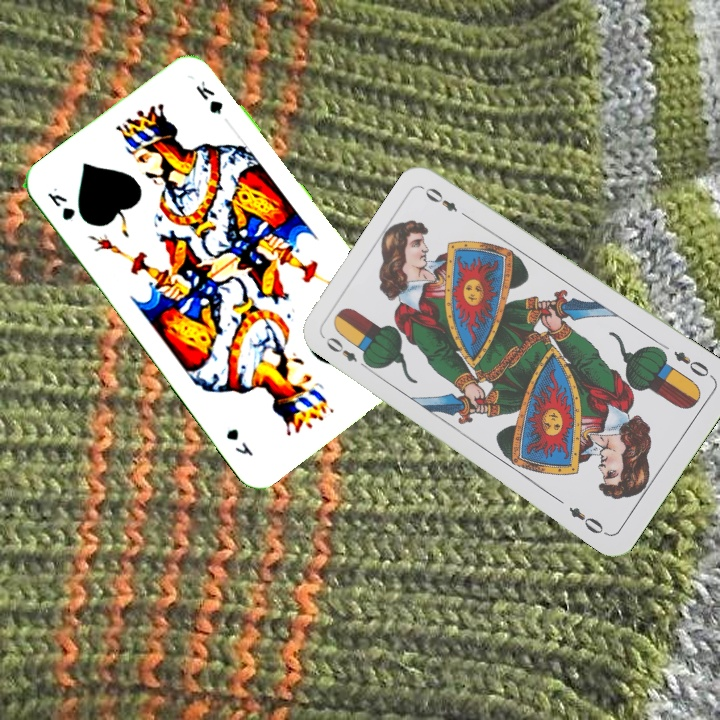EO: (321, 332, 373, 373), (669, 347, 716, 381)
GK: (43, 183, 78, 224)
